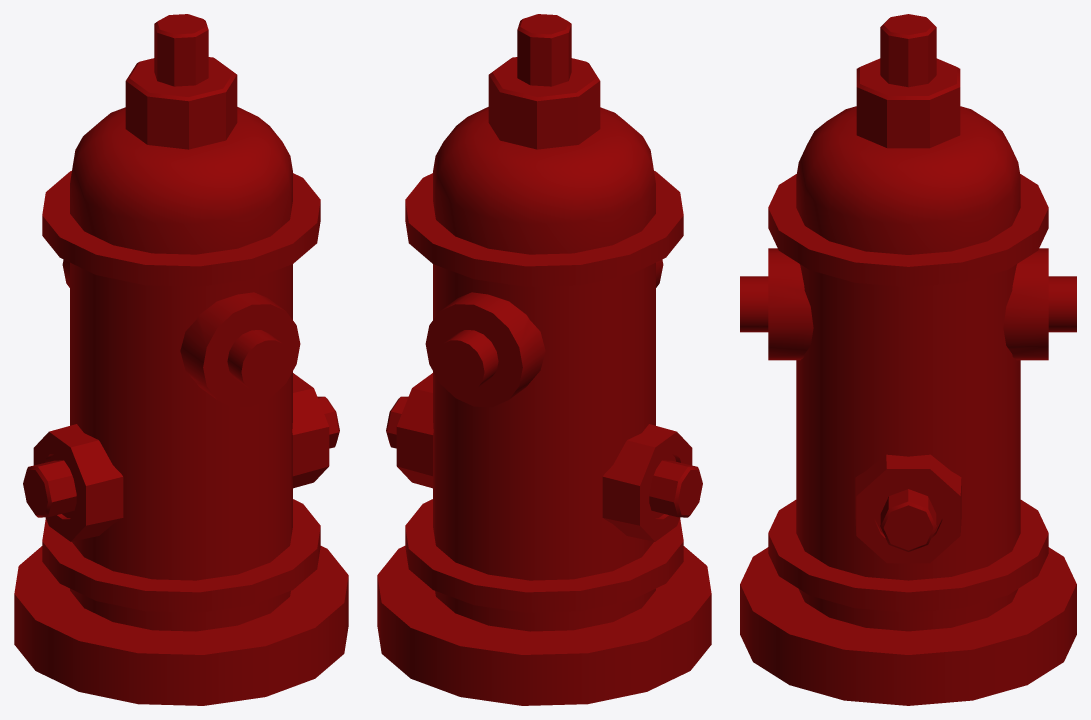
Rendered from hydrant.fbx.
3 renders of one model, left to right at view 1: azimuth 30°, elevation 25°; view 2: azimuth 150°, elevation 25°; view 3: azimuth 270°, elevation 25°, orthographic.
Parts seen in each view (by area): view 1: Hydrant; view 2: Hydrant; view 3: Hydrant.
Part boxes in pixels (left/top/right/bottom): Hydrant: left=14, top=14, right=348, bottom=705; Hydrant: left=377, top=14, right=711, bottom=705; Hydrant: left=740, top=14, right=1076, bottom=705.
Bounding box in the file's own units: 60 × 120 × 60.
